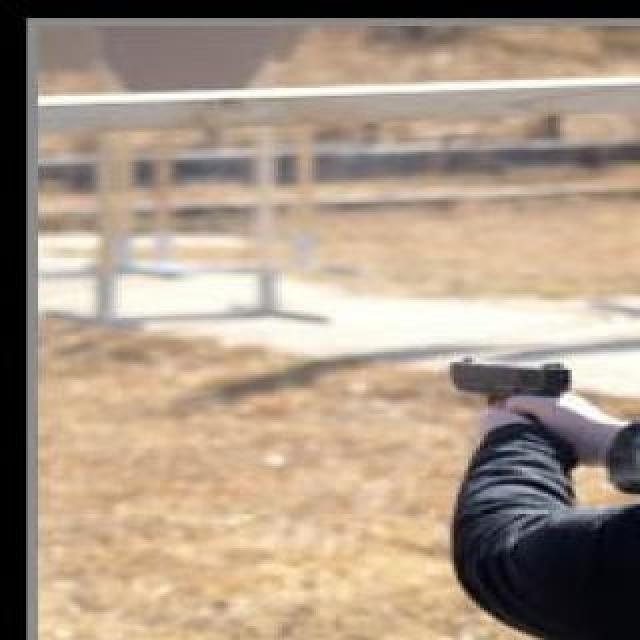Guns: (434, 333, 588, 448)
